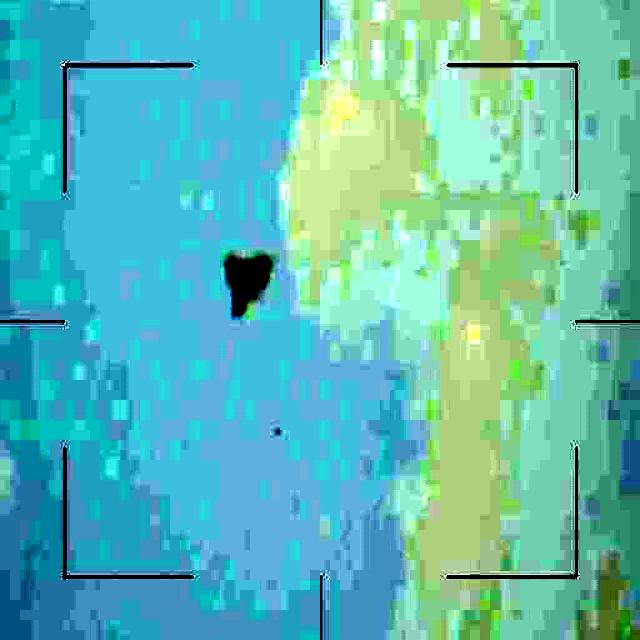bird: (226, 242, 278, 322)
